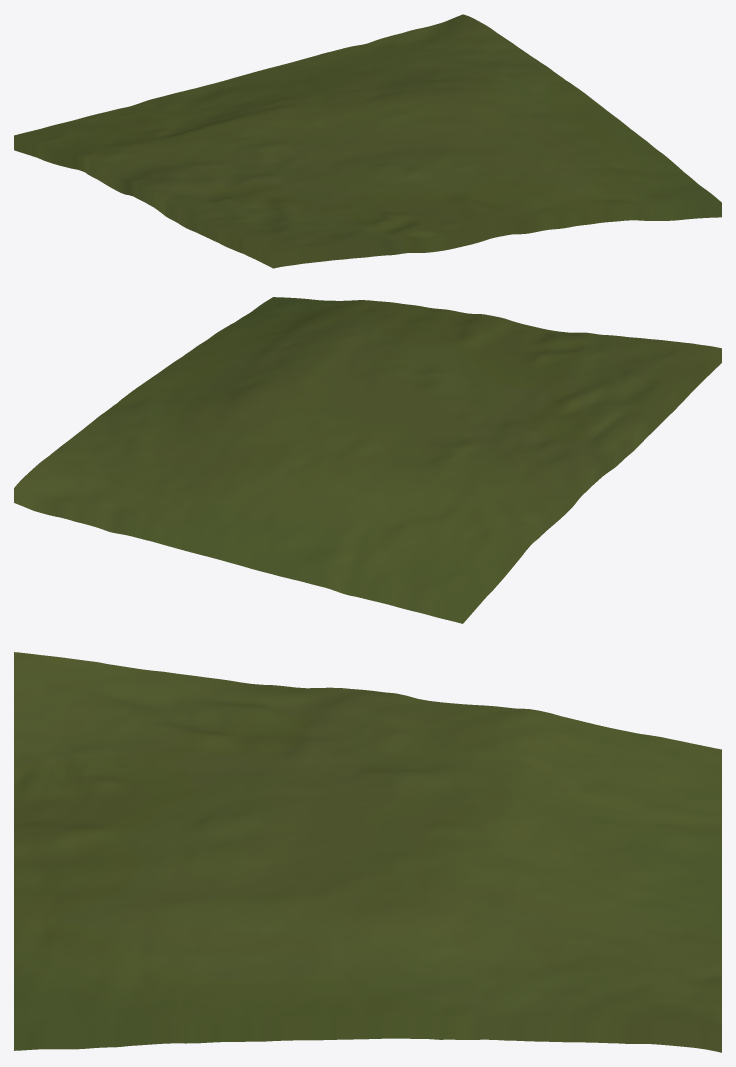
Rendered from terrain_2_-6.glb.
The picture shows the model from 3 angles, top to bottom: view 1: azimuth 30°, elevation 25°; view 2: azimuth 150°, elevation 25°; view 3: azimuth 270°, elevation 25°; orthographic projection. The views are drawn at different scales.
Visible parts, largest first — view 1: terrain_2_-6; view 2: terrain_2_-6; view 3: terrain_2_-6.
Boxes of the visible parts, <box> form: terrain_2_-6: <box>14,14,721,268</box>; terrain_2_-6: <box>14,297,721,623</box>; terrain_2_-6: <box>14,652,721,1052</box>.
Size of the model in its own units: 256 by 46.86 by 256.
